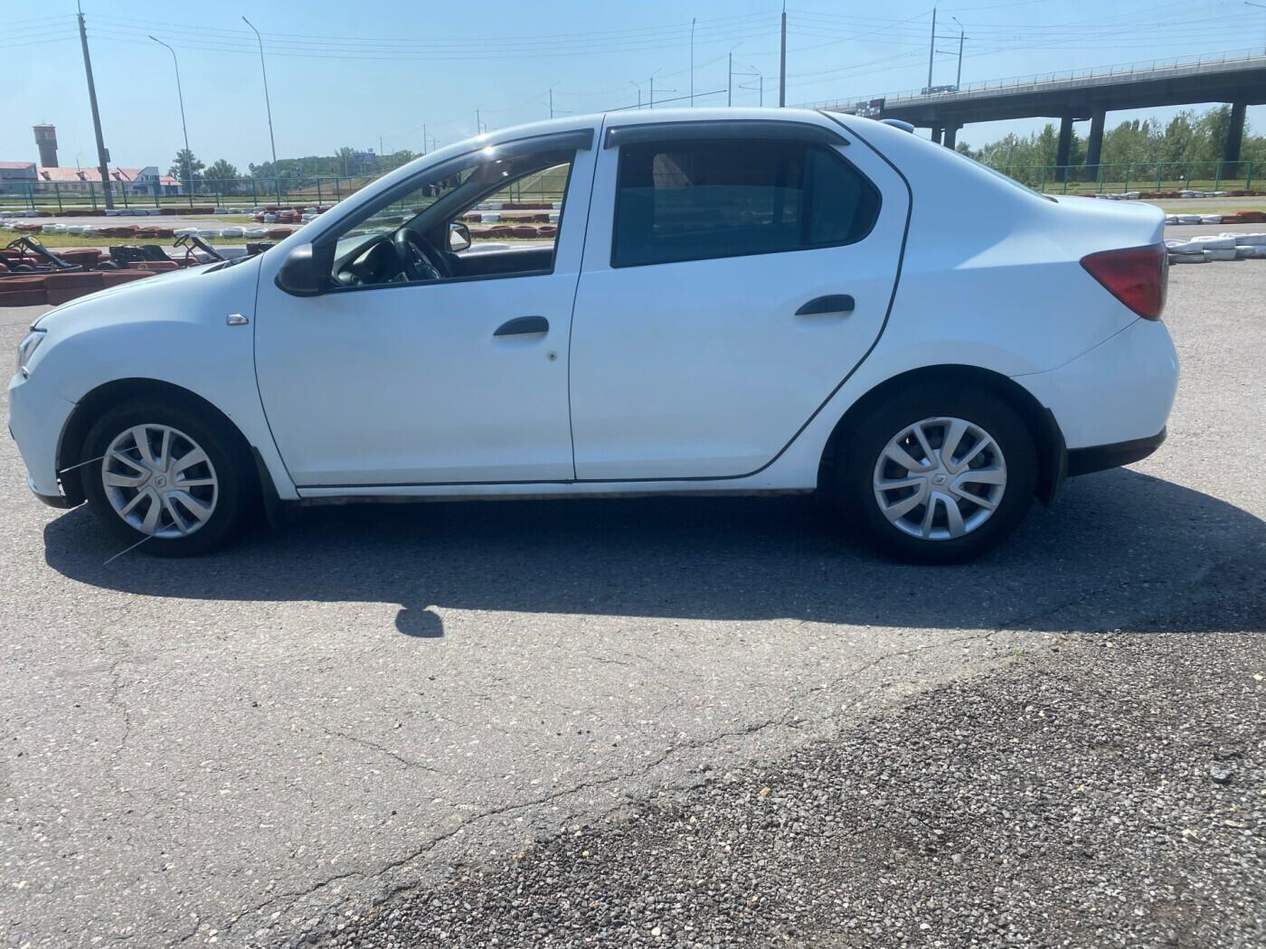Logan_2018: (5, 98, 1183, 585)
